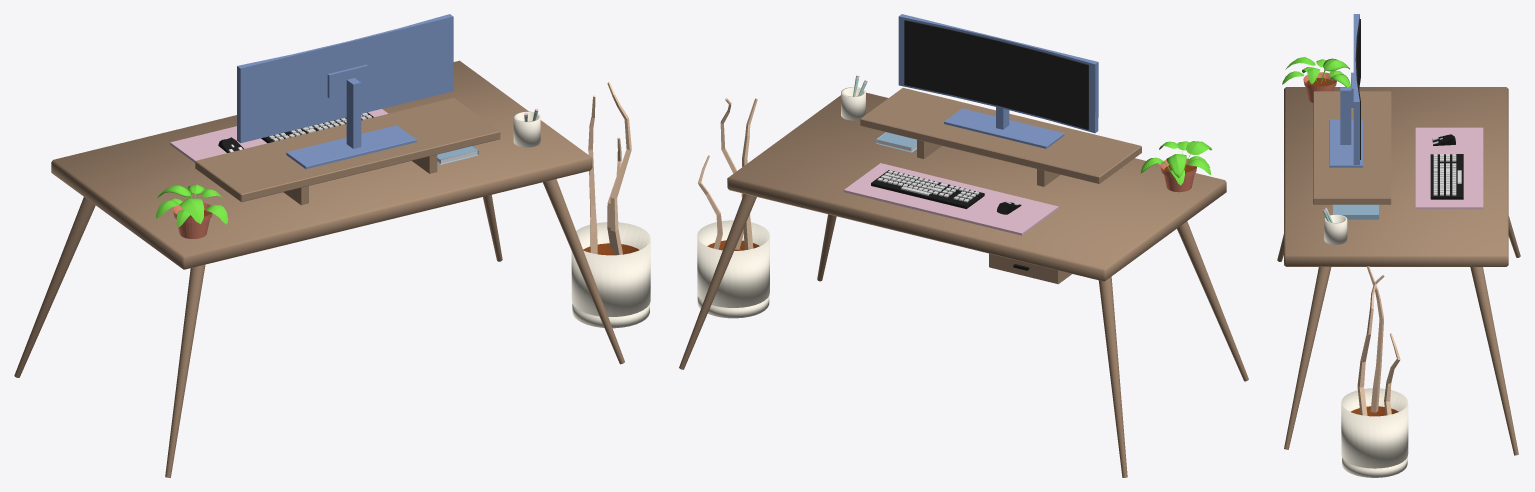
3 views of the same model, side by side, from view 1: azimuth 30°, elevation 25°; view 2: azimuth 150°, elevation 25°; view 3: azimuth 270°, elevation 25° (orthographic). The views are drawn at different scales.
Parts seen in each view (by area): view 1: Cube, Cube.051, Cube.001, Cylinder.006, Cube.067, Cylinder.005, Cylinder.004, Cylinder.003, Cube.082, Cube.087, Cube.066, Cylinder.008 (+3 smaller); view 2: Cube, Cube.049, Cube.001, Cube.082, Cylinder.006, Cube.051, Cube.067, Cylinder.003, Cylinder.002, Cylinder.005, Cube.004, Cube.083 (+3 smaller); view 3: Cube, Cube.001, Cylinder.006, Cube.082, Cylinder.002, Cylinder.004, Cube.067, Cube.004, Cube.051, Cube.086, Cube.087, Cube.066 (+6 smaller).
Part boxes in pixels (x1,y1,x2,y2): Cube: [51, 60, 592, 269]; Cube.051: [237, 14, 453, 143]; Cube.001: [195, 98, 500, 202]; Cylinder.006: [571, 222, 650, 316]; Cube.067: [286, 125, 416, 168]; Cylinder.005: [165, 265, 205, 477]; Cylinder.004: [543, 179, 624, 364]; Cylinder.003: [14, 197, 95, 377]; Cube.082: [170, 109, 388, 162]; Cube.087: [607, 82, 631, 255]; Cube.066: [346, 78, 361, 148]; Cylinder.008: [513, 111, 540, 147]; Cube: [727, 92, 1226, 281]; Cube.049: [904, 20, 1088, 129]; Cube.001: [860, 88, 1141, 183]; Cube.082: [843, 163, 1058, 235]; Cylinder.006: [697, 220, 769, 307]; Cube.051: [898, 14, 1098, 133]; Cube.067: [944, 108, 1064, 148]; Cylinder.003: [1098, 276, 1127, 477]; Cylinder.002: [679, 194, 756, 369]; Cylinder.005: [1177, 221, 1248, 381]; Cube.004: [871, 170, 984, 208]; Cube.083: [989, 253, 1071, 284]; Cube: [1284, 87, 1508, 266]; Cube.001: [1313, 91, 1391, 204]; Cylinder.006: [1341, 388, 1408, 468]; Cube.082: [1415, 127, 1483, 209]; Cylinder.002: [1470, 267, 1518, 455]; Cylinder.004: [1284, 267, 1331, 449]; Cube.067: [1329, 119, 1362, 167]; Cube.004: [1430, 154, 1463, 199]; Cube.051: [1353, 14, 1359, 164]; Cube.086: [1367, 266, 1383, 412]; Cube.087: [1357, 275, 1384, 415]; Cube.066: [1340, 87, 1351, 144].
Bounding box in the file's own units: 7.98 × 4.88 × 3.65.
